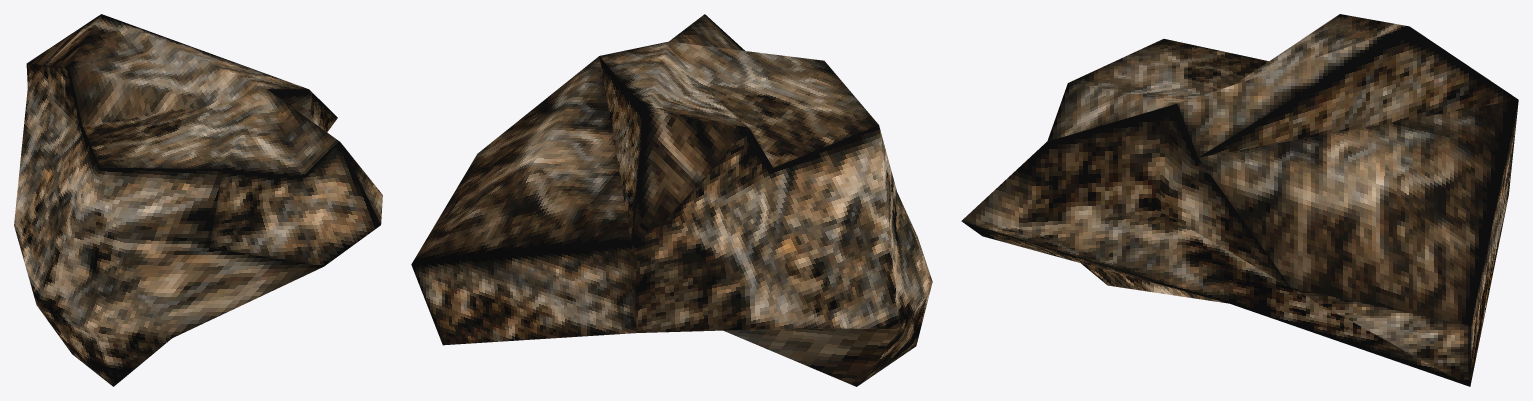
The model's file is asteroid3_3db.gltf.
3 renders of one model, left to right at view 1: azimuth 30°, elevation 25°; view 2: azimuth 150°, elevation 25°; view 3: azimuth 270°, elevation 25°, orthographic. The views are drawn at different scales.
Visible parts, largest first — view 1: asteroid3.3db; view 2: asteroid3.3db; view 3: asteroid3.3db.
Part boxes in pixels (<box>): asteroid3.3db: <box>14,14,382,386</box>; asteroid3.3db: <box>411,14,932,386</box>; asteroid3.3db: <box>961,14,1518,386</box>.
Bounding box in the file's own units: 2.21 × 1.67 × 2.58.
Materials: 1 (1 with a texture image).
